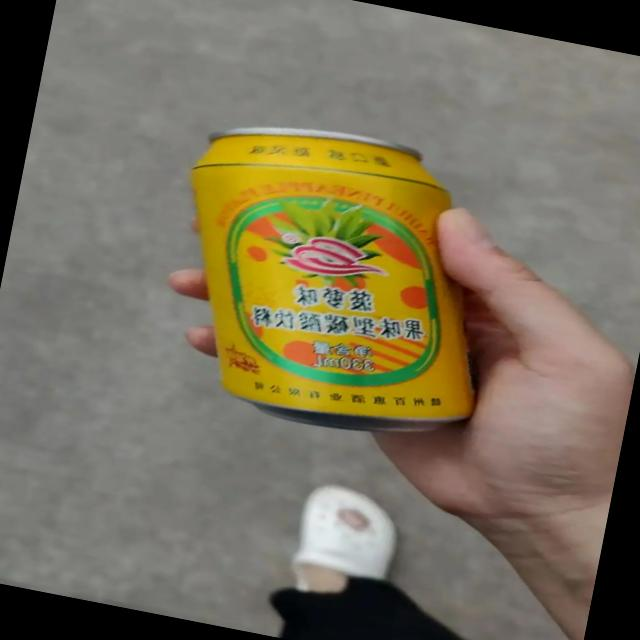can: (143, 99, 526, 458)
